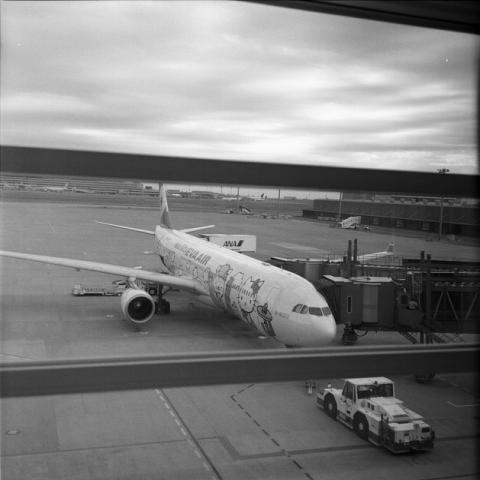truck: (314, 376, 435, 454)
